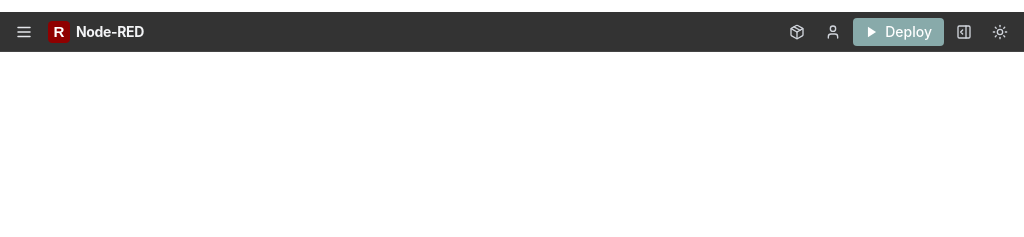
it: Header › interactions › opens main menu dropdown on hamburger click
Click the button with test id "header-menu-btn": (24, 32) [8,16,40,48]
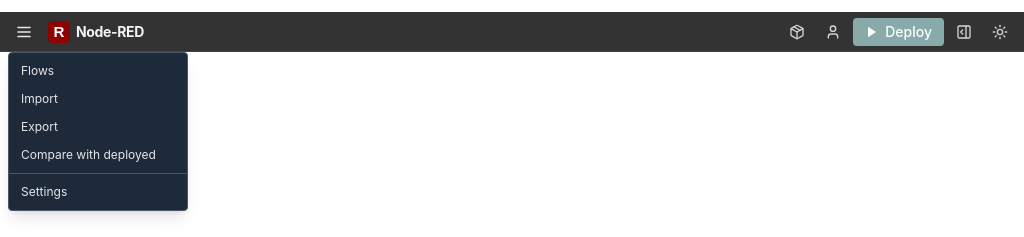
Check: the button "Flows" is shown, box [9,56,187,84]
Check: the button "Import" is shown, box [9,84,187,112]
Check: the button "Export" is shown, box [9,112,187,140]
